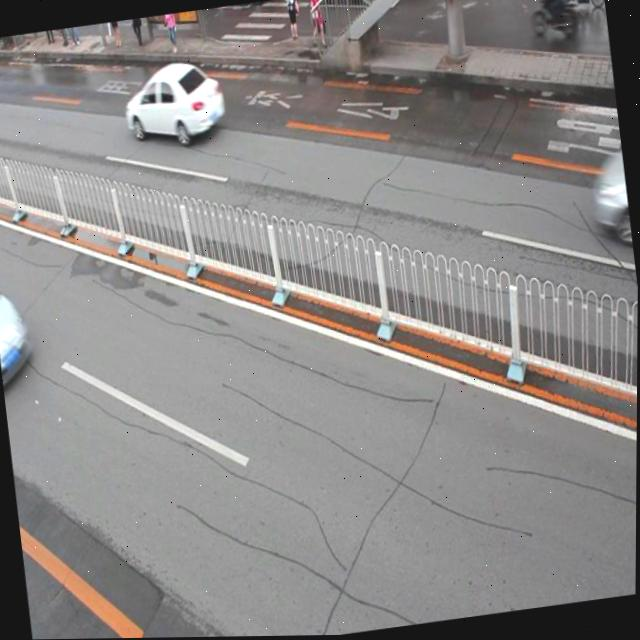car: (119, 54, 229, 149), (0, 242, 37, 395), (586, 146, 633, 248)
